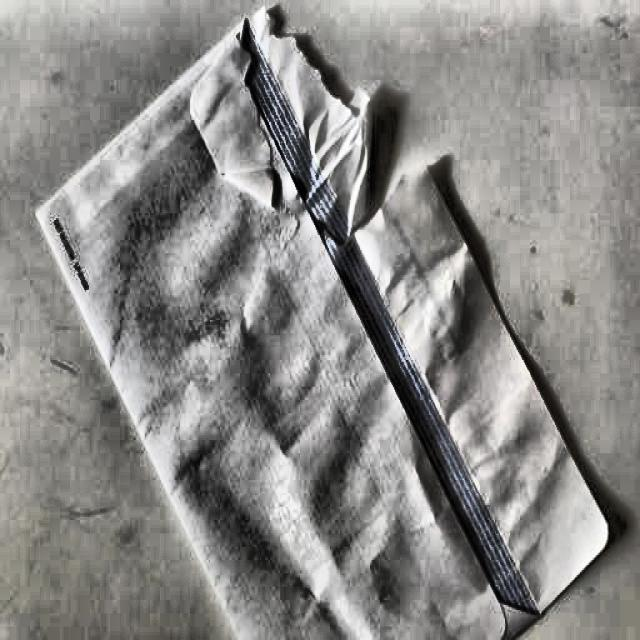paper: (62, 0, 600, 573)
